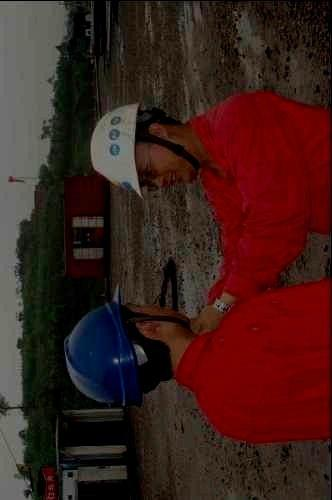helmet: (63, 281, 191, 408), (89, 100, 196, 201)
